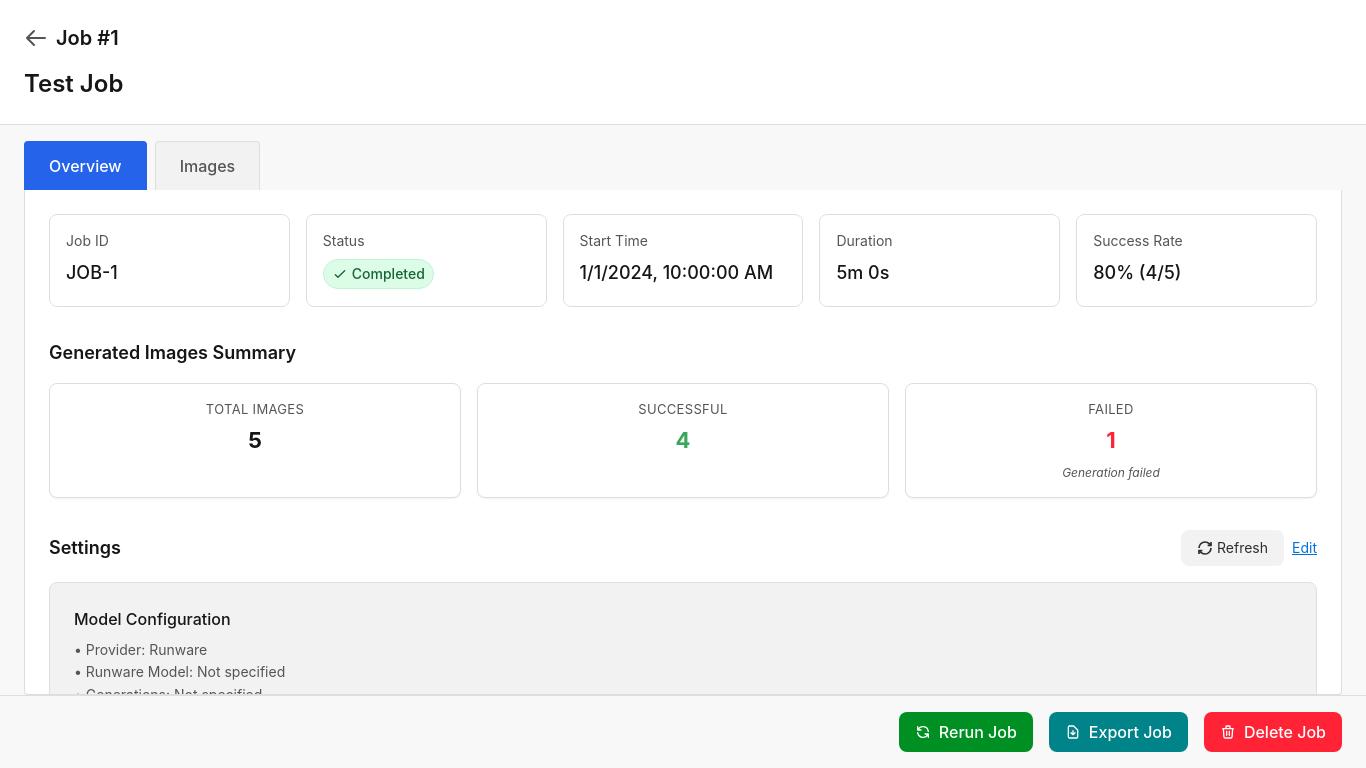
Test: SingleJobView › Action Buttons › handles delete button click
The width and height of the screenshot is (1366, 768).
Check: the heading "Job #1" is shown, box [56,24,119,52]
Component renders "Delete Job" (capital J) in footer
Step 1. Click the button "Delete Job" → point(1273, 732), box [1204,712,1342,752]
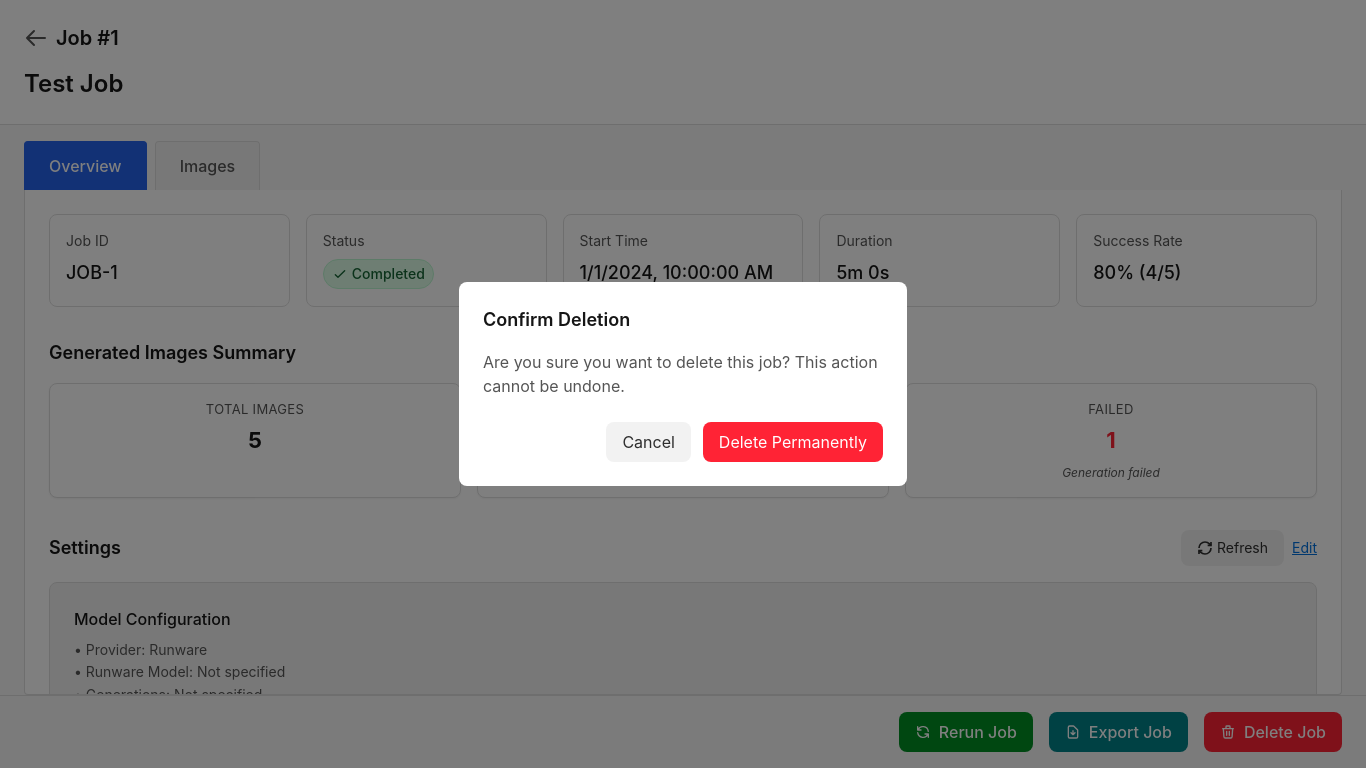
Check: the heading "Confirm Deletion" is shown, box [483,309,630,330]
